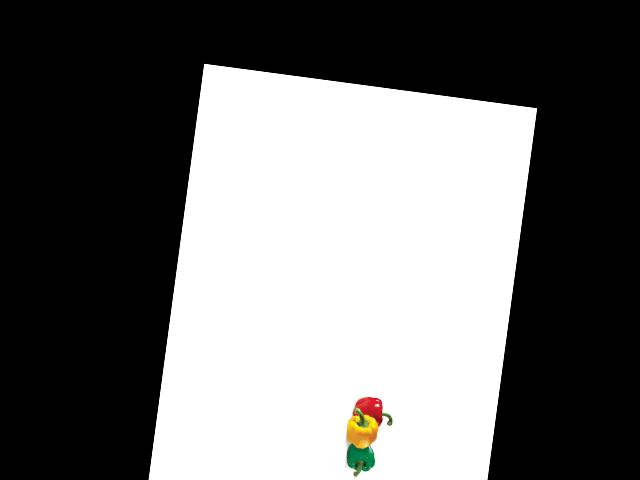bell_pepper: (341, 438, 380, 477)
